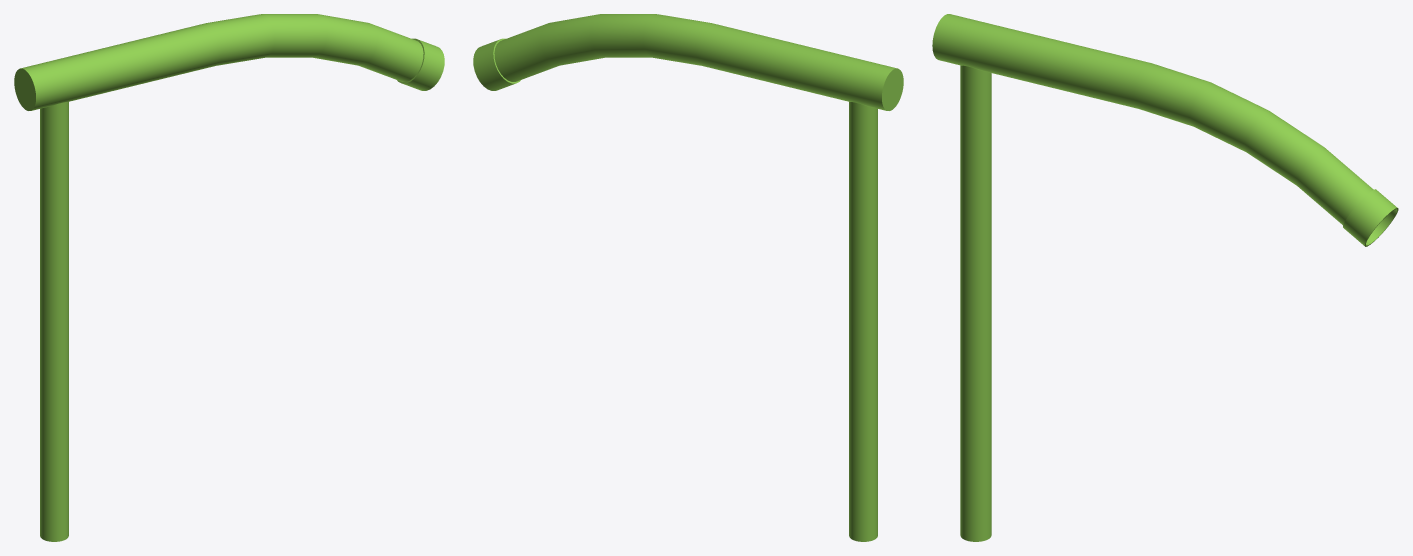
The picture shows the model from 3 angles, left to right: view 1: azimuth 30°, elevation 25°; view 2: azimuth 150°, elevation 25°; view 3: azimuth 330°, elevation 25°; orthographic projection. The views are drawn at different scales.
Parts seen in each view (by area): view 1: Group1; view 2: Group1; view 3: Group1.
Part boxes in pixels (bbox=[...]): Group1: bbox=[14, 14, 444, 541]; Group1: bbox=[473, 14, 903, 541]; Group1: bbox=[932, 14, 1398, 541].
Size of the model in its own units: 55.75 by 60.83 by 5.49.
